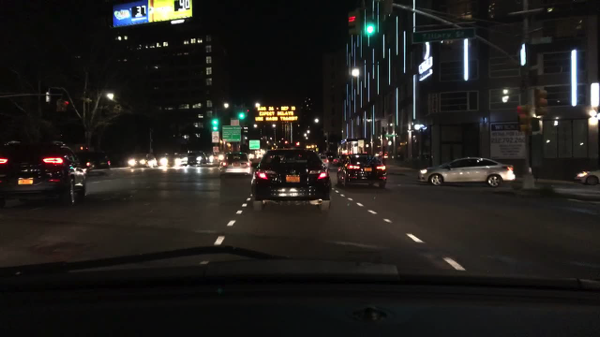car: (0, 140, 88, 209), (251, 148, 332, 212), (417, 156, 516, 188), (335, 154, 388, 189), (218, 152, 253, 179), (75, 152, 111, 169), (127, 153, 156, 169), (572, 169, 598, 186), (186, 152, 207, 165), (155, 154, 169, 168), (318, 156, 330, 170), (169, 154, 180, 167), (337, 154, 347, 168), (179, 154, 189, 166), (255, 150, 266, 159), (216, 153, 228, 161), (245, 154, 257, 162), (330, 156, 338, 166), (206, 155, 214, 163)
traffic light: (517, 103, 532, 133), (534, 87, 547, 116), (346, 10, 359, 35), (363, 18, 376, 39), (55, 100, 69, 111), (238, 111, 246, 120), (211, 120, 219, 127), (79, 146, 85, 153), (294, 142, 301, 147)
traffic sign: (411, 28, 476, 43), (223, 125, 242, 143), (529, 36, 550, 45), (248, 140, 260, 150), (212, 132, 219, 143), (380, 118, 387, 128), (357, 139, 364, 147), (212, 146, 219, 153)
